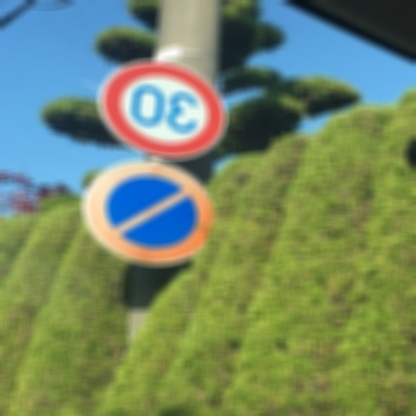Prohibition_sign: (84, 159, 225, 273)
Speed_sign: (97, 53, 232, 165)
